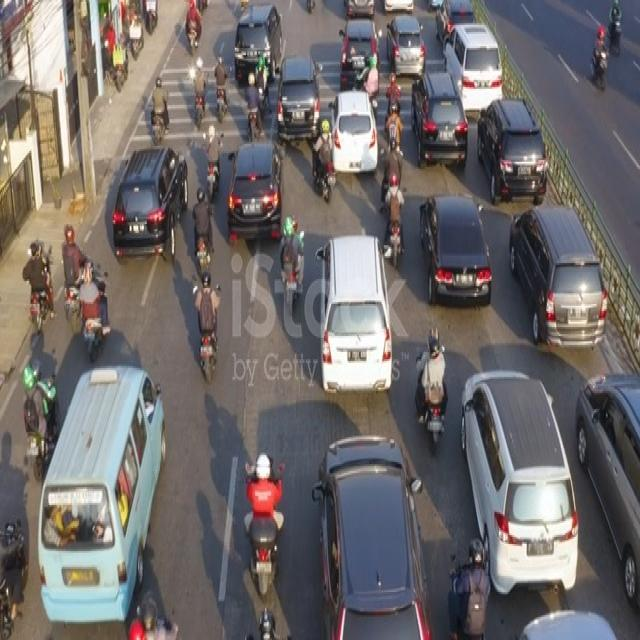Bus: (34, 360, 168, 632)
Car: (458, 372, 576, 591), (311, 433, 427, 640), (507, 207, 613, 350), (576, 355, 640, 585), (315, 233, 392, 396), (114, 140, 191, 258), (419, 191, 495, 300), (478, 94, 550, 202), (226, 131, 282, 255), (409, 61, 465, 162), (443, 18, 504, 100), (330, 87, 379, 178), (277, 49, 321, 142), (234, 0, 284, 78), (384, 14, 429, 76), (343, 10, 382, 81)
Motorcycle: (238, 444, 288, 592), (452, 530, 493, 640), (22, 344, 59, 462), (419, 322, 448, 452), (0, 506, 26, 640), (192, 276, 224, 378), (123, 583, 172, 640), (79, 252, 106, 351), (279, 214, 305, 308), (25, 233, 51, 326), (58, 217, 83, 306), (382, 106, 407, 190), (386, 170, 407, 266), (192, 191, 213, 277), (147, 71, 172, 141), (313, 118, 332, 201), (592, 15, 610, 100), (201, 120, 224, 185), (243, 68, 263, 136), (362, 45, 384, 100), (190, 51, 207, 122), (212, 50, 228, 122), (184, 0, 204, 57)
